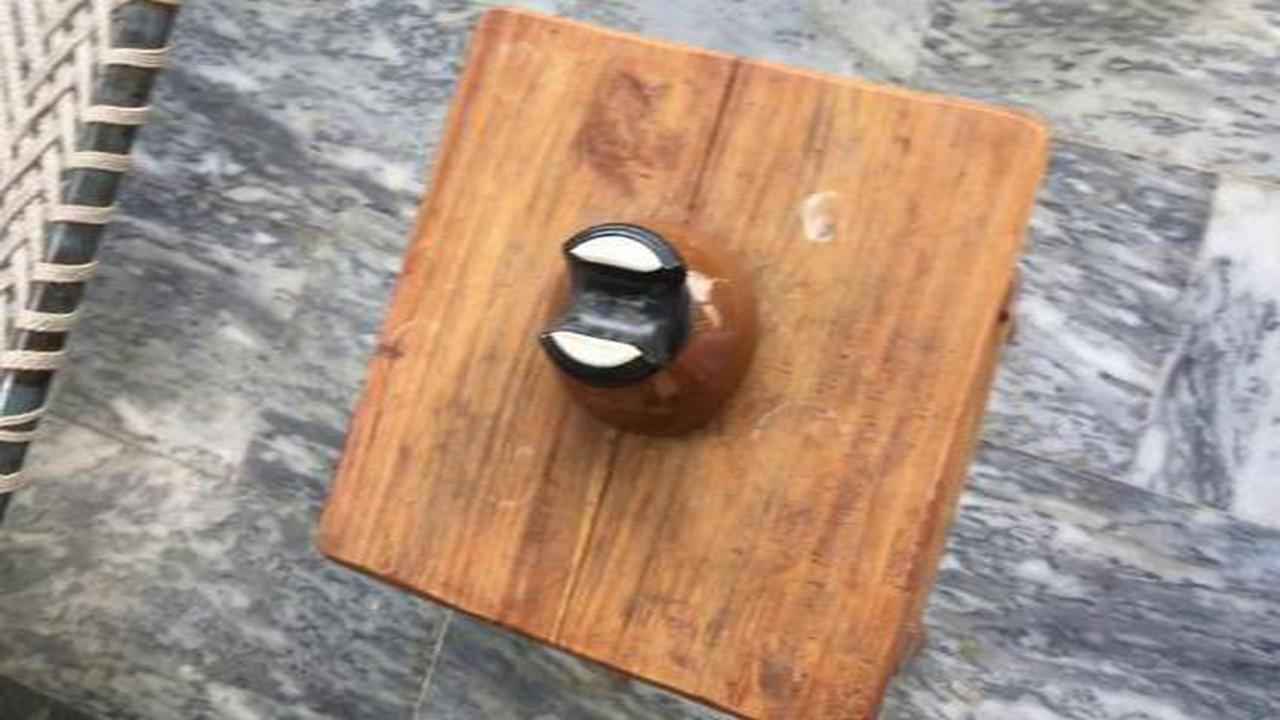insulator_pin: (514, 215, 788, 464)
